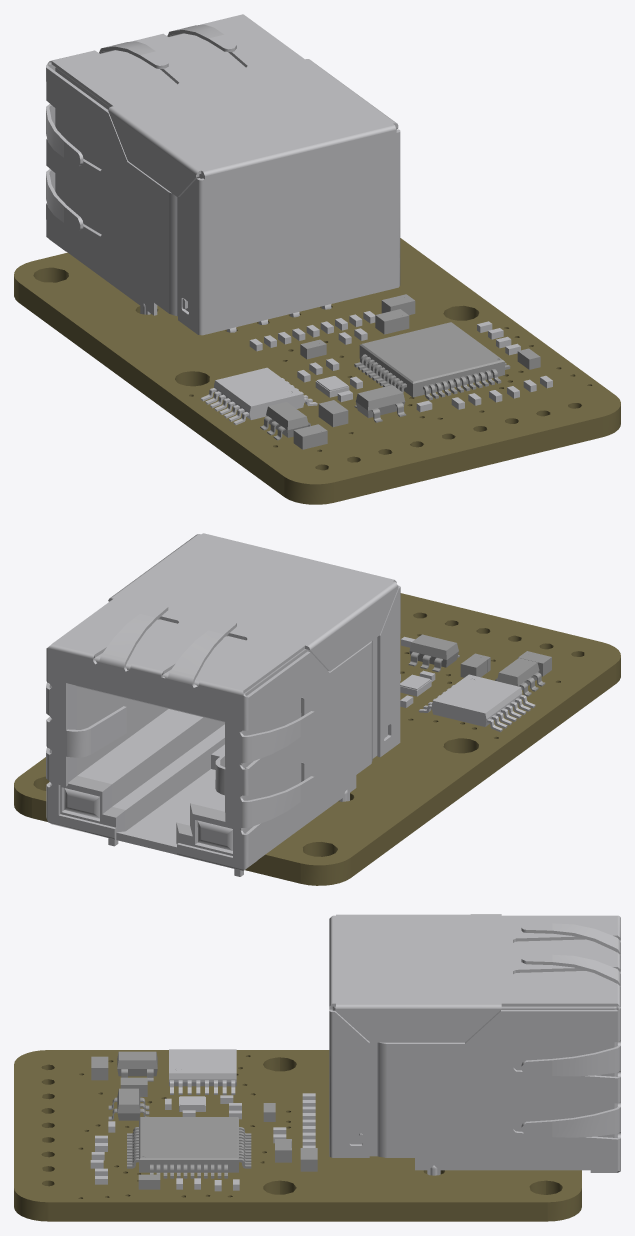
Rendered from ada-6348.glb.
3 renders of one model, top to bottom at view 1: azimuth 30°, elevation 25°; view 2: azimuth 150°, elevation 25°; view 3: azimuth 270°, elevation 25°, orthographic. The views are drawn at different scales.
Parts seen in each view (by area): view 1: 0.5833333333333334_0.5833333333333334_0.5833333333333334_0.8, 0.16666666666666666_0.16666666666666666_0.08333333333333333_, 0.3333333333333333_0.3333333333333333_0.3333333333333333_0; view 2: 0.5833333333333334_0.5833333333333334_0.5833333333333334_0.8, 0.16666666666666666_0.16666666666666666_0.08333333333333333_, 0.3333333333333333_0.3333333333333333_0.3333333333333333_0; view 3: 0.5833333333333334_0.5833333333333334_0.5833333333333334_0.8, 0.16666666666666666_0.16666666666666666_0.08333333333333333_, 0.3333333333333333_0.3333333333333333_0.3333333333333333_0.
Boxes of the visible parts, <box> form: 0.5833333333333334_0.5833333333333334_0.5833333333333334_0.8: <box>46,14,552,424</box>; 0.16666666666666666_0.16666666666666666_0.08333333333333333_: <box>14,238,620,504</box>; 0.3333333333333333_0.3333333333333333_0.3333333333333333_0: <box>260,294,540,449</box>; 0.5833333333333334_0.5833333333333334_0.5833333333333334_0.8: <box>46,533,535,876</box>; 0.16666666666666666_0.16666666666666666_0.08333333333333333_: <box>14,593,620,885</box>; 0.3333333333333333_0.3333333333333333_0.3333333333333333_0: <box>408,634,551,696</box>; 0.5833333333333334_0.5833333333333334_0.5833333333333334_0.8: <box>90,914,620,1191</box>; 0.16666666666666666_0.16666666666666666_0.08333333333333333_: <box>14,1050,581,1221</box>; 0.3333333333333333_0.3333333333333333_0.3333333333333333_0: <box>91,1051,317,1189</box>.
Bounding box in the file's own units: 2.67 × 1.87 × 4.49.
